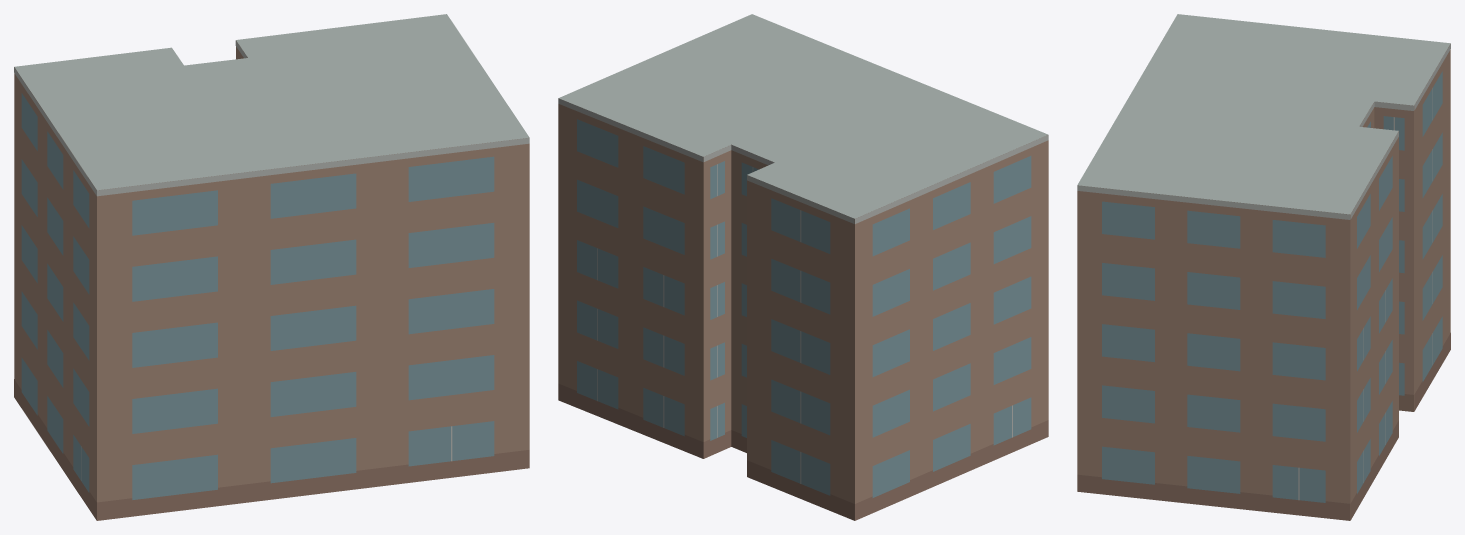
Rendered from survey-upis-33005354.glb.
3 renders of one model, left to right at view 1: azimuth 30°, elevation 25°; view 2: azimuth 150°, elevation 25°; view 3: azimuth 270°, elevation 25°, orthographic. The views are drawn at different scales.
Parts seen in each view (by area): view 1: survey-upis-33005354.tmp; view 2: survey-upis-33005354.tmp; view 3: survey-upis-33005354.tmp.
Part boxes in pixels (box(x1,y1,x2,y2)): survey-upis-33005354.tmp: box(14, 14, 529, 520); survey-upis-33005354.tmp: box(558, 14, 1048, 520); survey-upis-33005354.tmp: box(1077, 14, 1450, 520).
Bounding box in the file's own units: 18.87 × 13.44 × 14.86.
